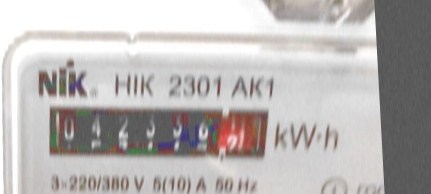0: (62, 112, 76, 142)
2: (114, 111, 133, 139)
3: (141, 110, 158, 140), (170, 110, 185, 138)
4: (88, 112, 105, 140)
6: (195, 114, 212, 142)
screen: (36, 85, 280, 178)
